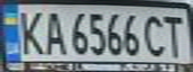5: (84, 9, 109, 56)
6: (121, 10, 145, 57), (66, 9, 90, 56), (103, 10, 127, 56)
A: (39, 7, 69, 56)
C: (139, 11, 169, 58)
K: (12, 7, 48, 56)
T: (160, 11, 190, 58)
